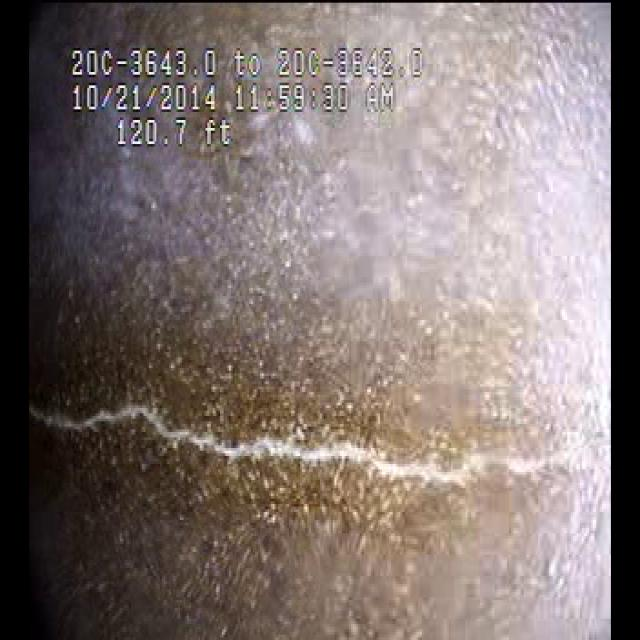Crack: (41, 360, 524, 523)
